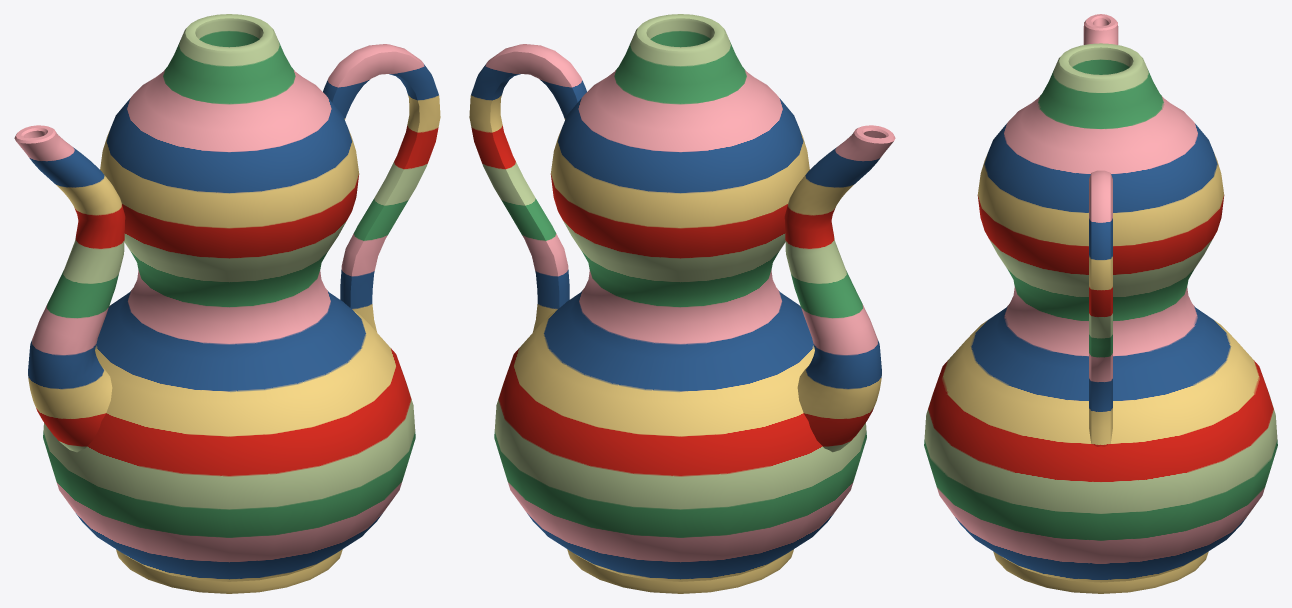
The model's file is D-2_Onstick.fbx.
The picture shows the model from 3 angles, left to right: view 1: azimuth 30°, elevation 25°; view 2: azimuth 150°, elevation 25°; view 3: azimuth 270°, elevation 25°; orthographic projection. The views are drawn at different scales.
Parts seen in each view (by area): view 1: D-2; view 2: D-2; view 3: D-2.
Part boxes in pixels (<box>): D-2: <box>14,14,440,593</box>; D-2: <box>469,14,895,593</box>; D-2: <box>924,14,1277,593</box>.
Size of the model in its own units: 94.2 by 72.17 by 110.
